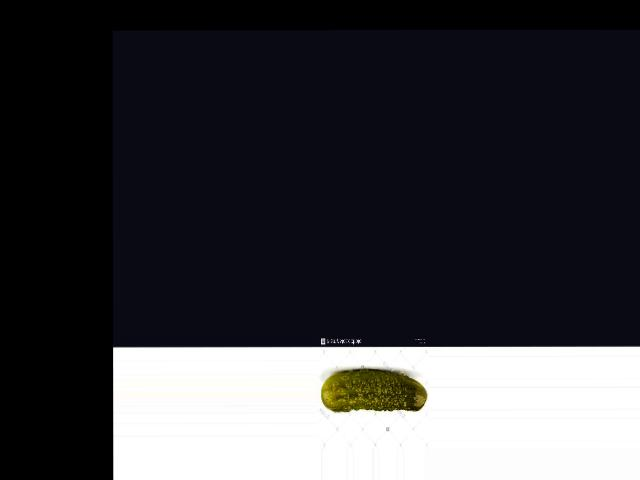cucumber: (321, 368, 428, 411)
